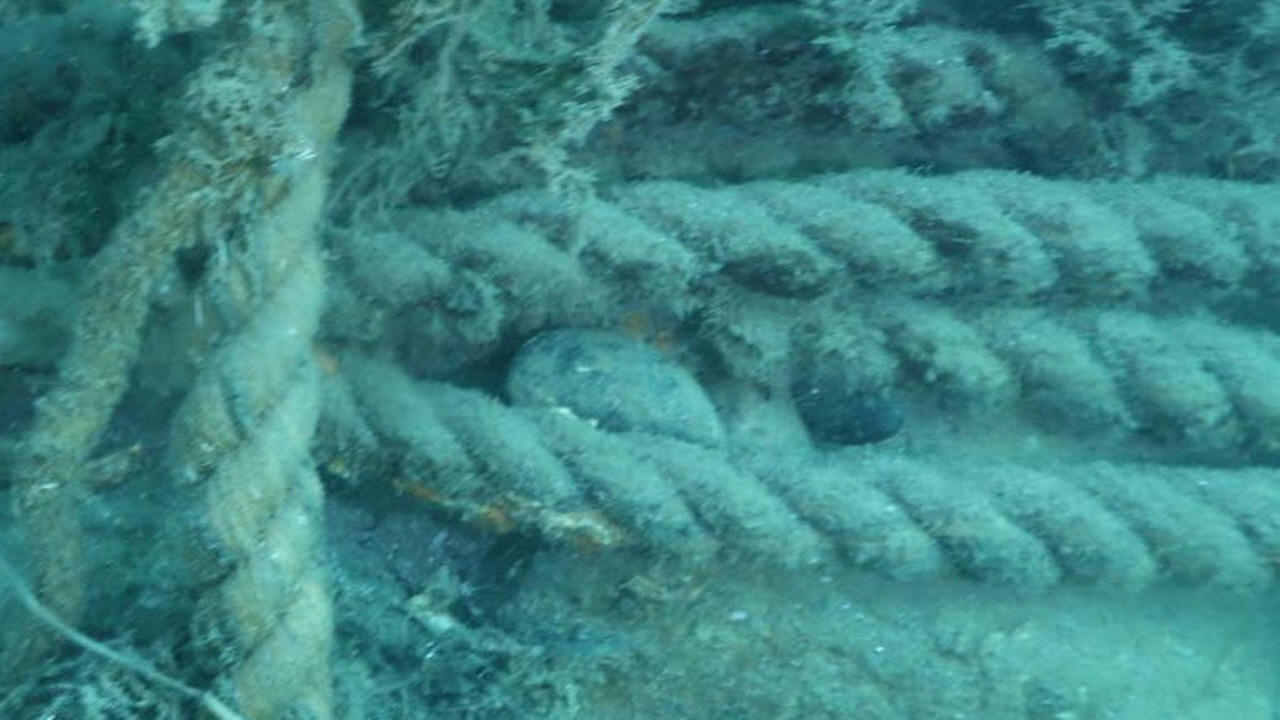bundle of ropes: (0, 159, 1279, 597), (0, 1, 370, 720)
